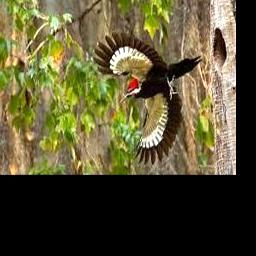Woodpecker: (90, 30, 202, 162)
